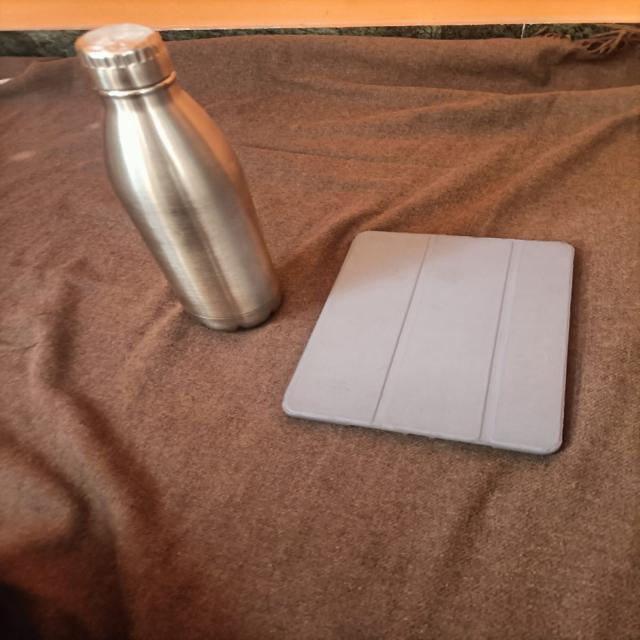bottle: (56, 43, 294, 360)
tablet: (271, 187, 585, 467)
